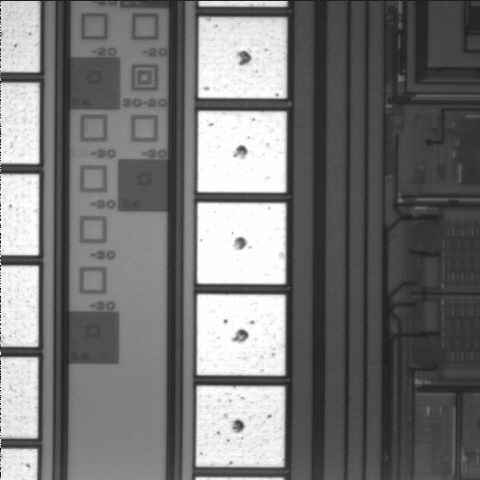pad: (197, 294, 286, 376), (198, 111, 286, 193), (198, 17, 287, 98), (197, 203, 286, 284), (196, 386, 285, 467)
